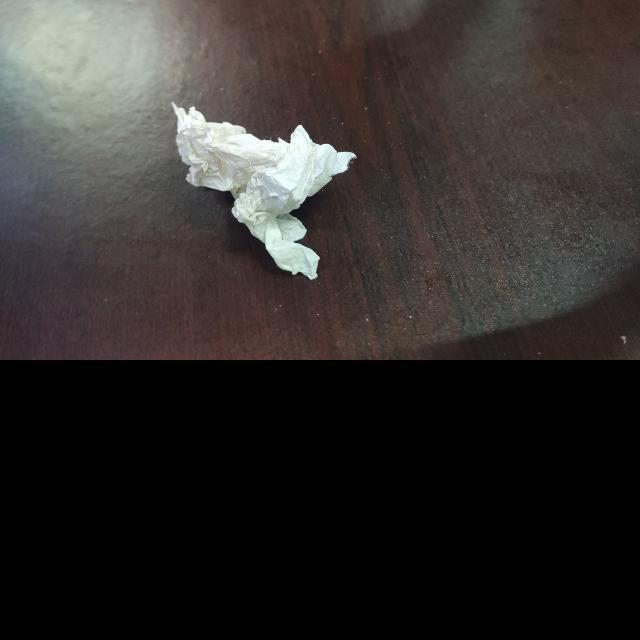kitchen paper: (162, 90, 366, 289)
